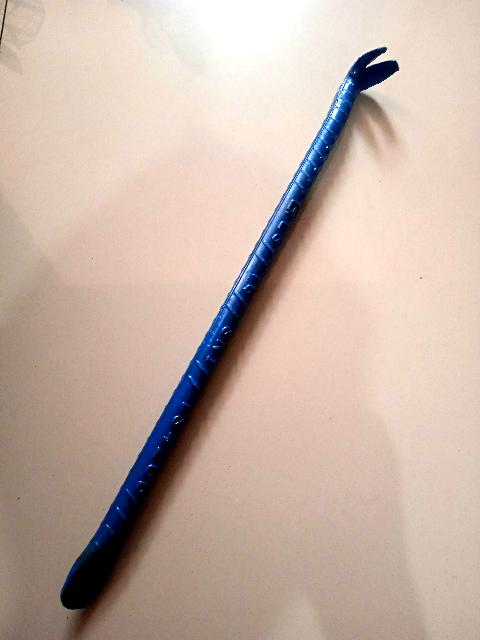crow bar: (53, 30, 409, 640)
